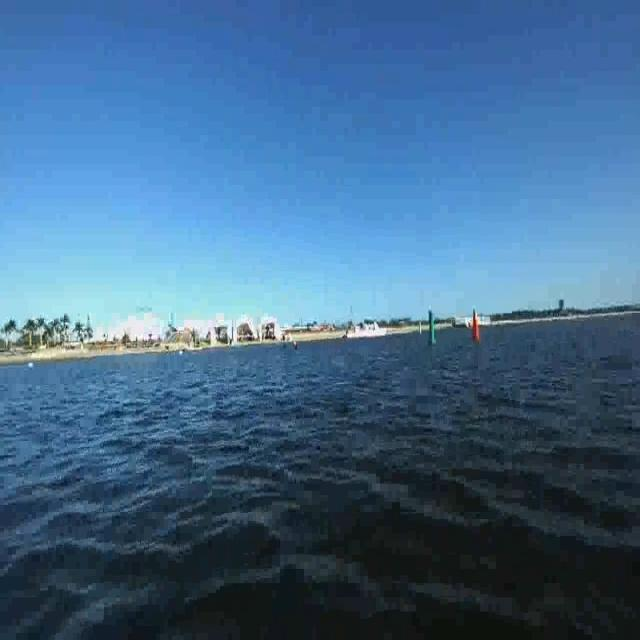green-column-buoy: (426, 312, 438, 346)
red-column-buoy: (469, 310, 480, 343)
